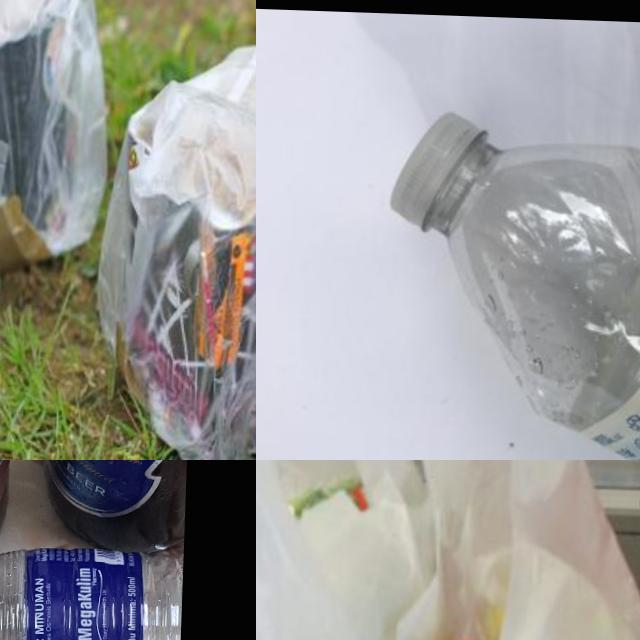garrafa de vidro: (37, 460, 189, 551)
garrafa plástica: (438, 135, 640, 460), (0, 538, 183, 640)
sacola plástica: (81, 1, 256, 460), (334, 460, 640, 640), (256, 460, 441, 640), (0, 0, 115, 282)
tampa plástica: (388, 106, 488, 237)
